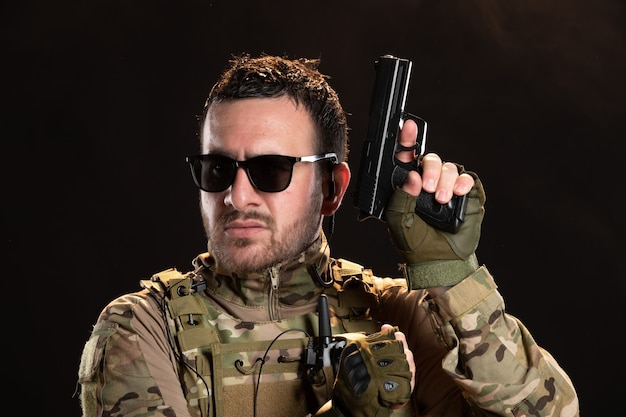gun: (355, 53, 473, 236)
